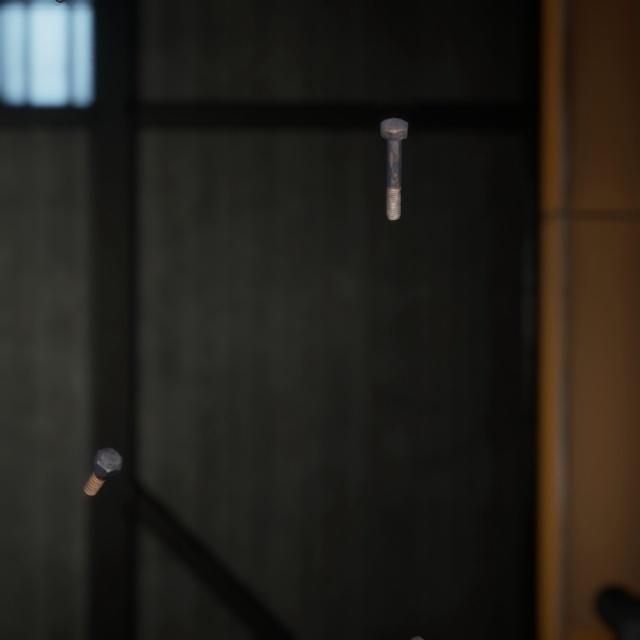bolt: (375, 100, 412, 211), (79, 422, 127, 479), (388, 607, 433, 640)
